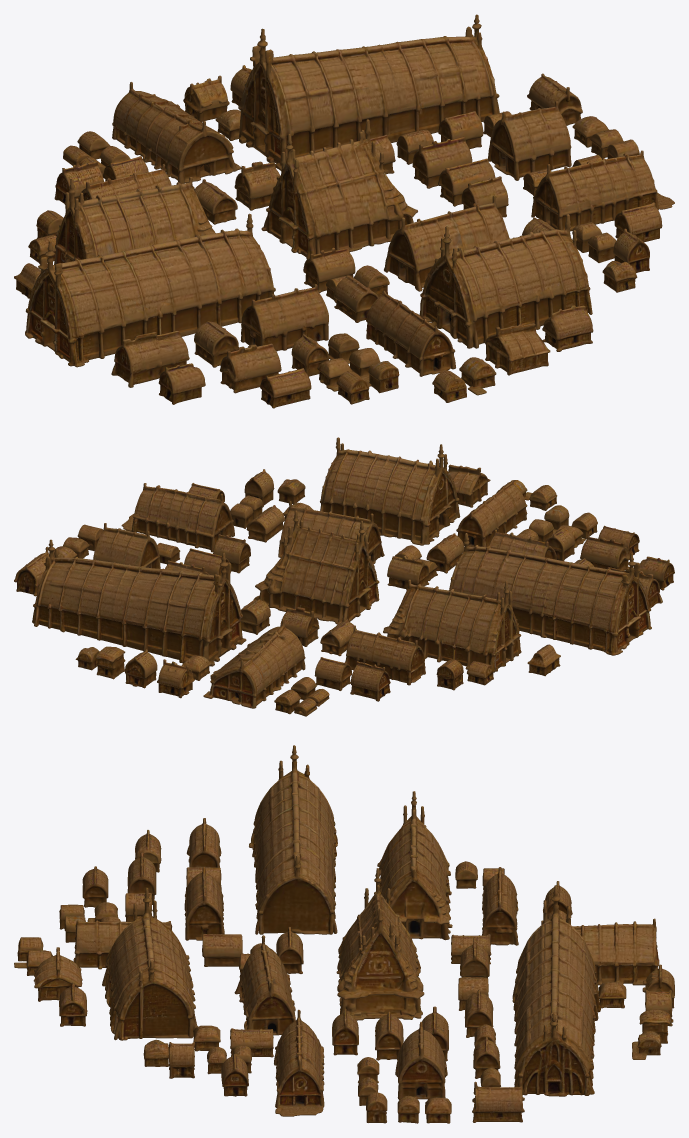
The model's file is Classical City (North American Native).fbx.
3 views of the same model, one above another, from view 1: azimuth 30°, elevation 25°; view 2: azimuth 150°, elevation 25°; view 3: azimuth 270°, elevation 25° (orthographic). The views are drawn at different scales.
Parts seen in each view (by area): view 1: tripo_node_b563681f; view 2: tripo_node_b563681f; view 3: tripo_node_b563681f.
Boxes of the visible parts, left/top/right/bottom form: tripo_node_b563681f: left=14, top=14, right=674, bottom=408; tripo_node_b563681f: left=14, top=437, right=674, bottom=716; tripo_node_b563681f: left=14, top=745, right=674, bottom=1123.
Bounding box in the file's own units: 1 × 0.1953 × 0.9893.
